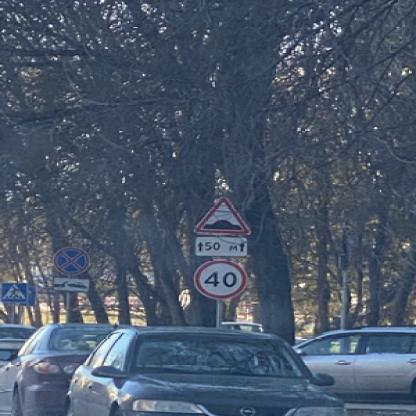Speed Limit 40: (195, 258, 245, 299)
